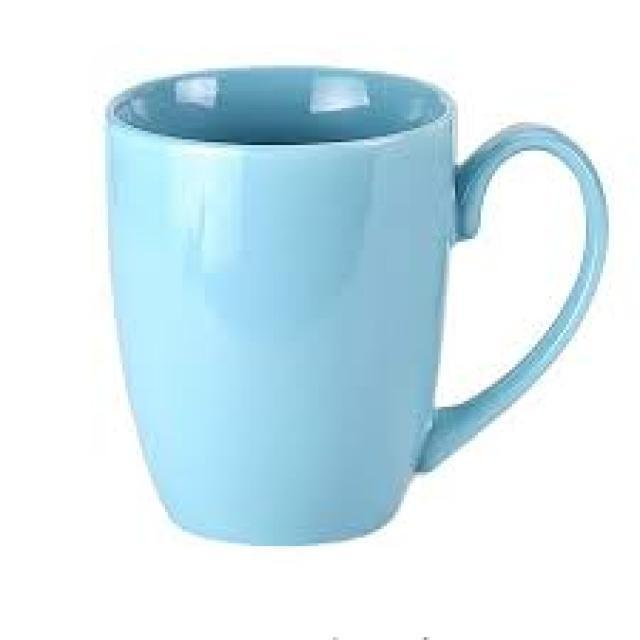taza: (101, 65, 609, 547)
